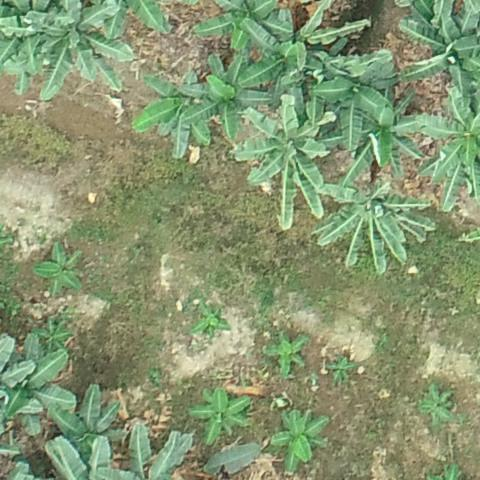Banana-plant: (240, 98, 339, 228), (318, 179, 441, 275), (312, 51, 407, 153), (399, 104, 480, 210), (36, 4, 133, 89), (134, 69, 222, 161), (399, 0, 480, 96), (195, 50, 284, 136), (279, 4, 374, 81), (54, 384, 134, 463), (184, 386, 262, 451), (190, 0, 283, 52), (270, 406, 332, 477), (30, 238, 89, 300), (187, 299, 238, 345), (267, 326, 312, 376), (416, 383, 460, 434), (25, 314, 75, 352), (327, 349, 359, 387)
